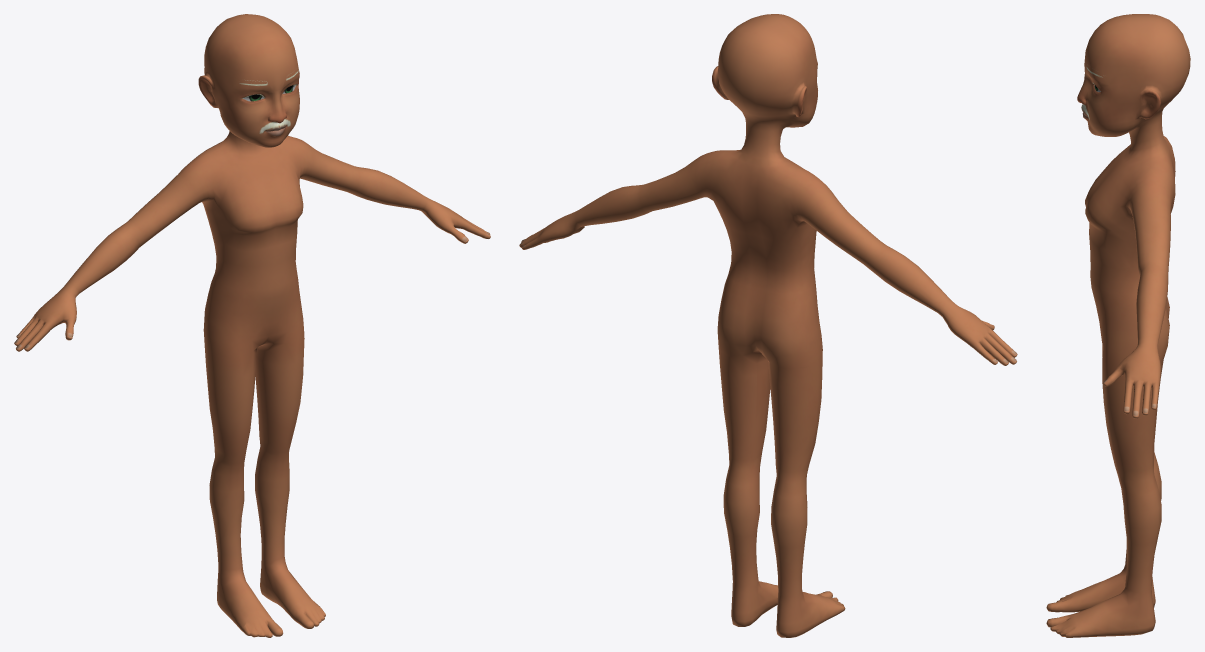
The model's file is frame_0084.glb.
The picture shows the model from 3 angles, left to right: view 1: azimuth 30°, elevation 25°; view 2: azimuth 150°, elevation 25°; view 3: azimuth 270°, elevation 25°; orthographic projection. The views are drawn at different scales.
Parts seen in each view (by area): view 1: frame_0084_head_geo; view 2: frame_0084_head_geo; view 3: frame_0084_head_geo.
Boxes of the visible parts, left/top/right/bottom form: frame_0084_head_geo: left=14, top=14, right=490, bottom=637; frame_0084_head_geo: left=519, top=14, right=1017, bottom=637; frame_0084_head_geo: left=1046, top=14, right=1190, bottom=637.
Bounding box in the file's own units: 1.28 × 1.5 × 0.3253.
Materials: 3 (3 with a texture image).
